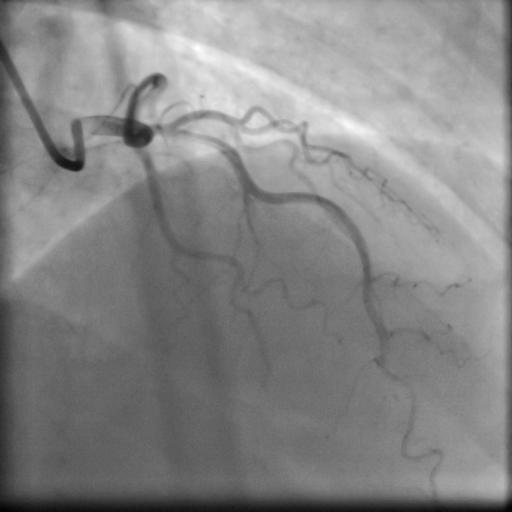Stenosis: (166, 127, 216, 146)
